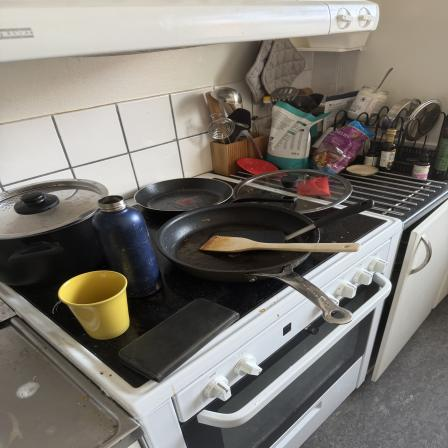blue_bottle: (90, 195, 170, 293)
phone: (114, 300, 242, 376)
yellow_cup: (54, 270, 134, 341)
